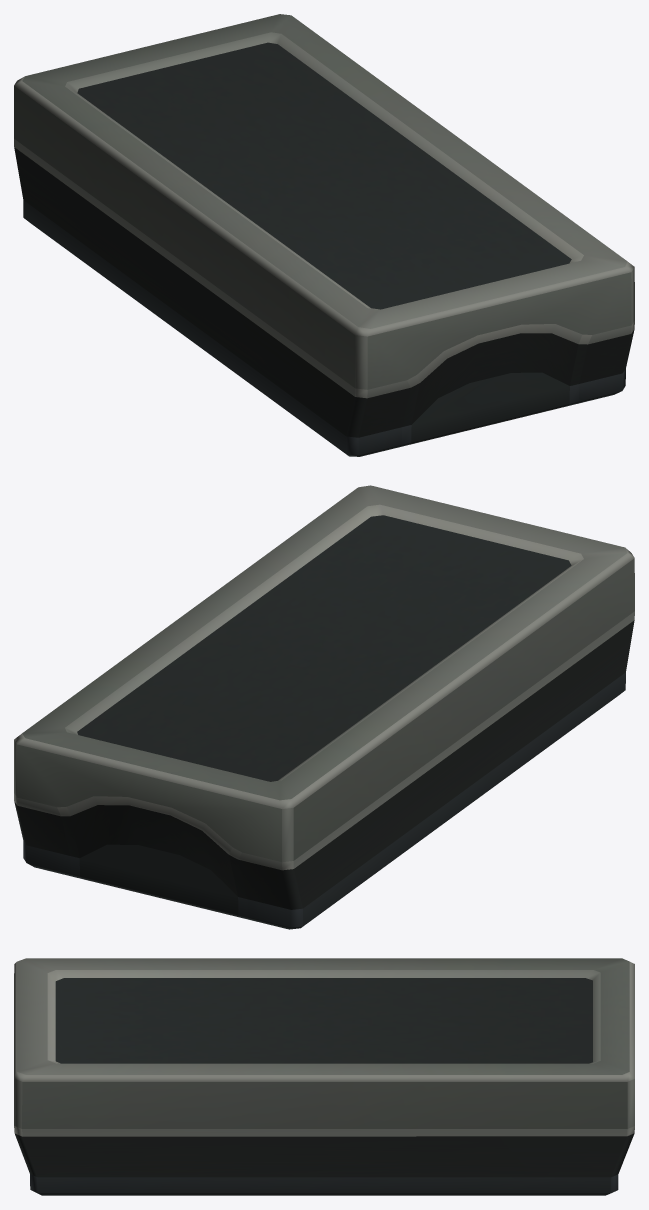
The model's file is appartment_type1_roof_type1_x2_flat_cream.fbx.
3 renders of one model, top to bottom at view 1: azimuth 30°, elevation 25°; view 2: azimuth 150°, elevation 25°; view 3: azimuth 270°, elevation 25°, orthographic. The views are drawn at different scales.
Visible parts, largest first — view 1: appartment_type1_roof_type1_x2_flat_cream; view 2: appartment_type1_roof_type1_x2_flat_cream; view 3: appartment_type1_roof_type1_x2_flat_cream.
Boxes of the visible parts, x1,y1,x2,y2 form: appartment_type1_roof_type1_x2_flat_cream: (14, 14, 634, 456); appartment_type1_roof_type1_x2_flat_cream: (14, 485, 634, 929); appartment_type1_roof_type1_x2_flat_cream: (14, 958, 634, 1195).
Bounding box in the file's own units: 400 × 186 × 867.
